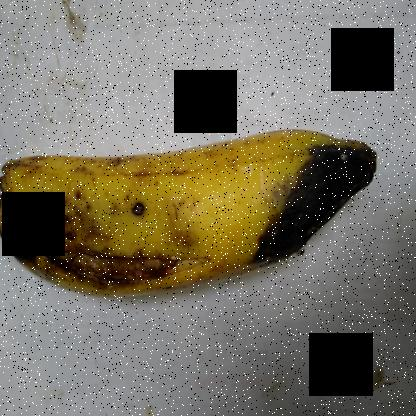rotten: (244, 110, 403, 311), (0, 189, 212, 313)
